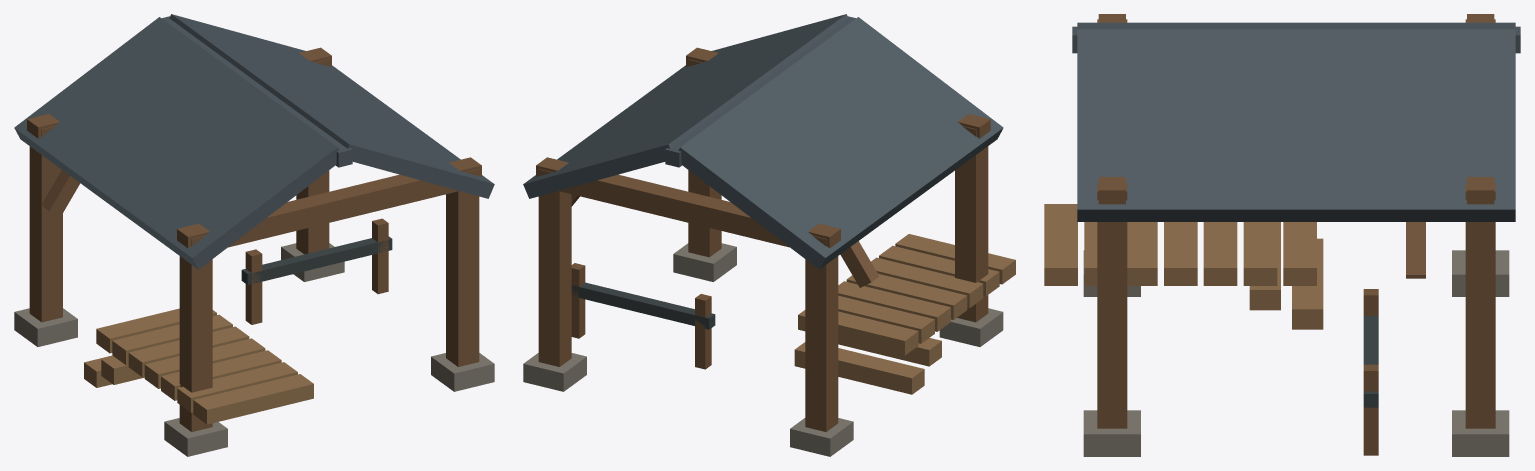
The model's file is cart-station.source.glb.
3 renders of one model, left to right at view 1: azimuth 30°, elevation 25°; view 2: azimuth 150°, elevation 25°; view 3: azimuth 270°, elevation 25°, orthographic. The views are drawn at different scales.
Parts seen in each view (by area): view 1: cart-station-left-roof-plane-mesh, cart-station-right-roof-plane-mesh, cart-station-crossbeam-1.48-mesh, cart-station-post-front-right-mesh, cart-station-post-rear-left-mesh, cart-station-post-front-left-mesh, cart-station-platform-plank-1.34-mesh, cart-station-hitch-rail-mesh, cart-station-platform-plank-1.02-mesh, cart-station-foot-front-right-mesh, cart-station-foot-rear-left-mesh, cart-station-foot-front-left-mesh (+14 smaller); view 2: cart-station-left-roof-plane-mesh, cart-station-right-roof-plane-mesh, cart-station-crossbeam--1.48-mesh, cart-station-post-rear-right-mesh, cart-station-post-rear-left-mesh, cart-station-post-front-left-mesh, cart-station-step--0.64-mesh, cart-station-platform-plank--0.58-mesh, cart-station-hitch-rail-mesh, cart-station-platform-plank-0.06000000000000005-mesh, cart-station-platform-plank-0.7000000000000001-mesh, cart-station-platform-plank-0.38000000000000006-mesh (+14 smaller); view 3: cart-station-right-roof-plane-mesh, cart-station-post-rear-right-mesh, cart-station-post-front-right-mesh, cart-station-left-roof-plane-mesh, cart-station-platform-plank-1.34-mesh, cart-station-platform-plank--0.25999999999999995-mesh, cart-station-platform-plank-0.06000000000000005-mesh, cart-station-foot-rear-right-mesh, cart-station-foot-front-right-mesh, cart-station-platform-plank--0.58-mesh, cart-station-platform-plank-0.38000000000000006-mesh, cart-station-platform-plank-0.7000000000000001-mesh (+10 smaller).
Part boxes in pixels (bbox=[...]): cart-station-left-roof-plane-mesh: bbox=[14, 17, 339, 269]; cart-station-right-roof-plane-mesh: bbox=[169, 14, 494, 198]; cart-station-crossbeam-1.48-mesh: bbox=[177, 157, 481, 248]; cart-station-post-front-right-mesh: bbox=[446, 169, 479, 366]; cart-station-post-rear-left-mesh: bbox=[29, 126, 62, 322]; cart-station-post-front-left-mesh: bbox=[179, 236, 212, 431]; cart-station-platform-plank-1.34-mesh: bbox=[193, 374, 313, 424]; cart-station-hitch-rail-mesh: bbox=[241, 236, 392, 284]; cart-station-platform-plank-1.02-mesh: bbox=[177, 362, 297, 412]; cart-station-foot-front-right-mesh: bbox=[431, 353, 494, 391]; cart-station-foot-rear-left-mesh: bbox=[14, 308, 77, 346]; cart-station-foot-front-left-mesh: bbox=[164, 418, 227, 456]; cart-station-left-roof-plane-mesh: bbox=[678, 17, 1003, 269]; cart-station-right-roof-plane-mesh: bbox=[523, 14, 848, 198]; cart-station-crossbeam--1.48-mesh: bbox=[536, 157, 840, 248]; cart-station-post-rear-right-mesh: bbox=[538, 169, 571, 366]; cart-station-post-rear-left-mesh: bbox=[805, 236, 838, 431]; cart-station-post-front-left-mesh: bbox=[955, 126, 988, 322]; cart-station-step--0.64-mesh: bbox=[794, 342, 924, 394]; cart-station-platform-plank--0.58-mesh: bbox=[798, 310, 918, 355]; cart-station-hitch-rail-mesh: bbox=[571, 282, 715, 329]; cart-station-platform-plank-0.06000000000000005-mesh: bbox=[838, 281, 950, 331]; cart-station-platform-plank-0.7000000000000001-mesh: bbox=[871, 257, 983, 308]; cart-station-platform-plank-0.38000000000000006-mesh: bbox=[846, 273, 967, 319]; cart-station-right-roof-plane-mesh: bbox=[1077, 29, 1515, 221]; cart-station-post-rear-right-mesh: bbox=[1465, 183, 1495, 428]; cart-station-post-front-right-mesh: bbox=[1097, 183, 1127, 428]; cart-station-left-roof-plane-mesh: bbox=[1077, 22, 1515, 28]; cart-station-platform-plank-1.34-mesh: bbox=[1044, 204, 1077, 285]; cart-station-platform-plank--0.25999999999999995-mesh: bbox=[1243, 222, 1277, 285]; cart-station-platform-plank-0.06000000000000005-mesh: bbox=[1203, 222, 1237, 285]; cart-station-foot-rear-right-mesh: bbox=[1452, 410, 1509, 456]; cart-station-foot-front-right-mesh: bbox=[1083, 410, 1140, 456]; cart-station-platform-plank--0.58-mesh: bbox=[1283, 222, 1316, 285]; cart-station-platform-plank-0.38000000000000006-mesh: bbox=[1164, 222, 1197, 285]; cart-station-platform-plank-0.7000000000000001-mesh: bbox=[1127, 222, 1157, 285].
Size of the model in its own units: 3.72 by 3 by 3.82.
